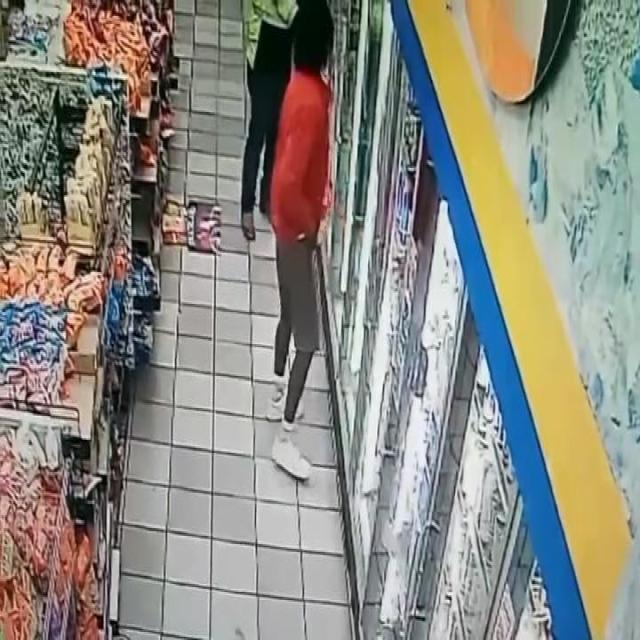Shoplifting: (250, 3, 378, 490)
